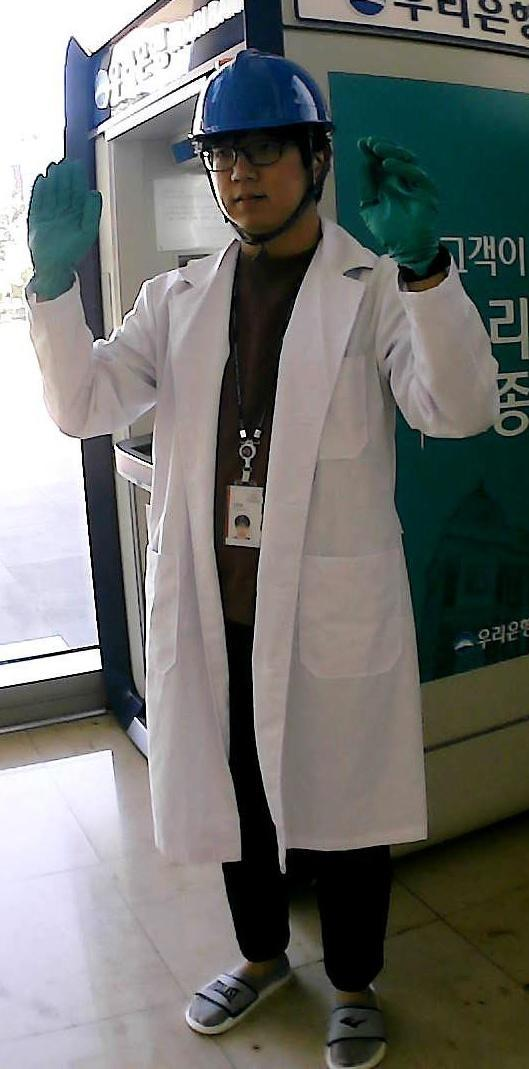lab_coat: (135, 266, 402, 864)
